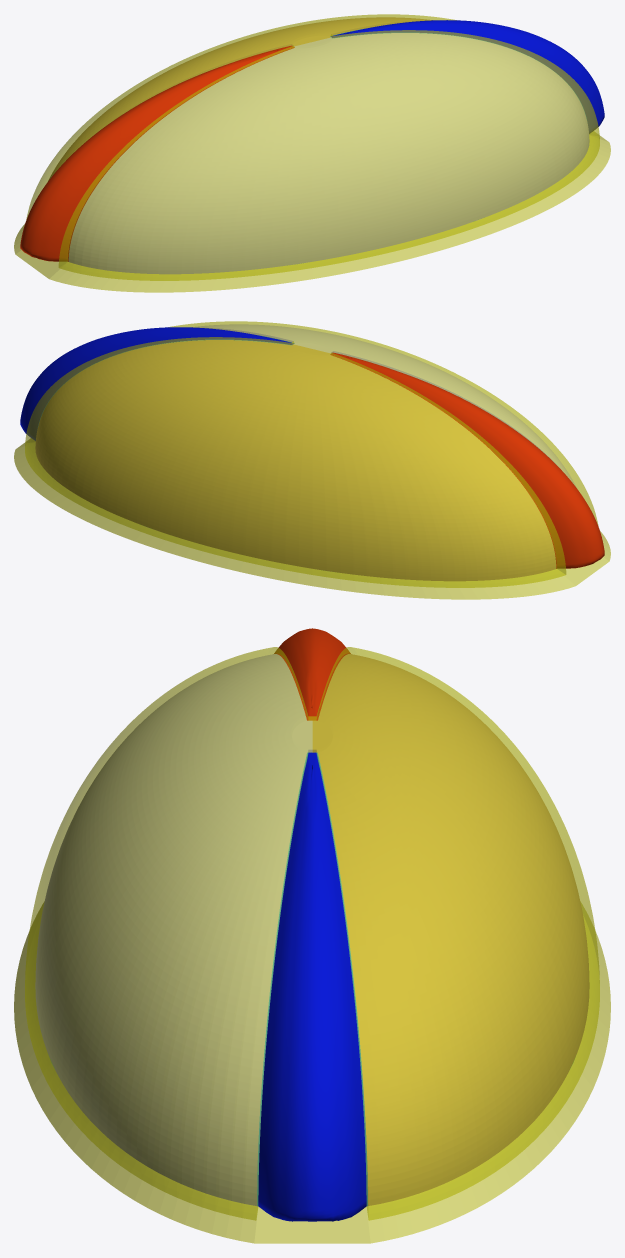
File: stadium-20.fbx
3 renders of one model, top to bottom at view 1: azimuth 30°, elevation 25°; view 2: azimuth 150°, elevation 25°; view 3: azimuth 270°, elevation 25°, orthographic. The views are drawn at different scales.
Visible parts, largest first — view 1: dome, socle, redGoal, blueGoal; view 2: dome, socle, redGoal, blueGoal; view 3: dome, blueGoal, socle, redGoal, blueGoalLimits.
Boxes of the visible parts, x1,y1,x2,y2 form: dome: (26, 14, 599, 280); socle: (14, 131, 610, 292); redGoal: (20, 46, 293, 261); blueGoal: (331, 20, 604, 133); dome: (25, 321, 598, 587); socle: (14, 438, 610, 599); redGoal: (331, 353, 604, 568); blueGoal: (20, 327, 293, 440); dome: (25, 647, 599, 1220); blueGoal: (258, 752, 366, 1221); socle: (14, 902, 610, 1243); redGoal: (274, 628, 350, 720); blueGoalLimits: (257, 752, 367, 1206).
Bounding box in the file's own units: 21.74 × 5.69 × 11.22.
